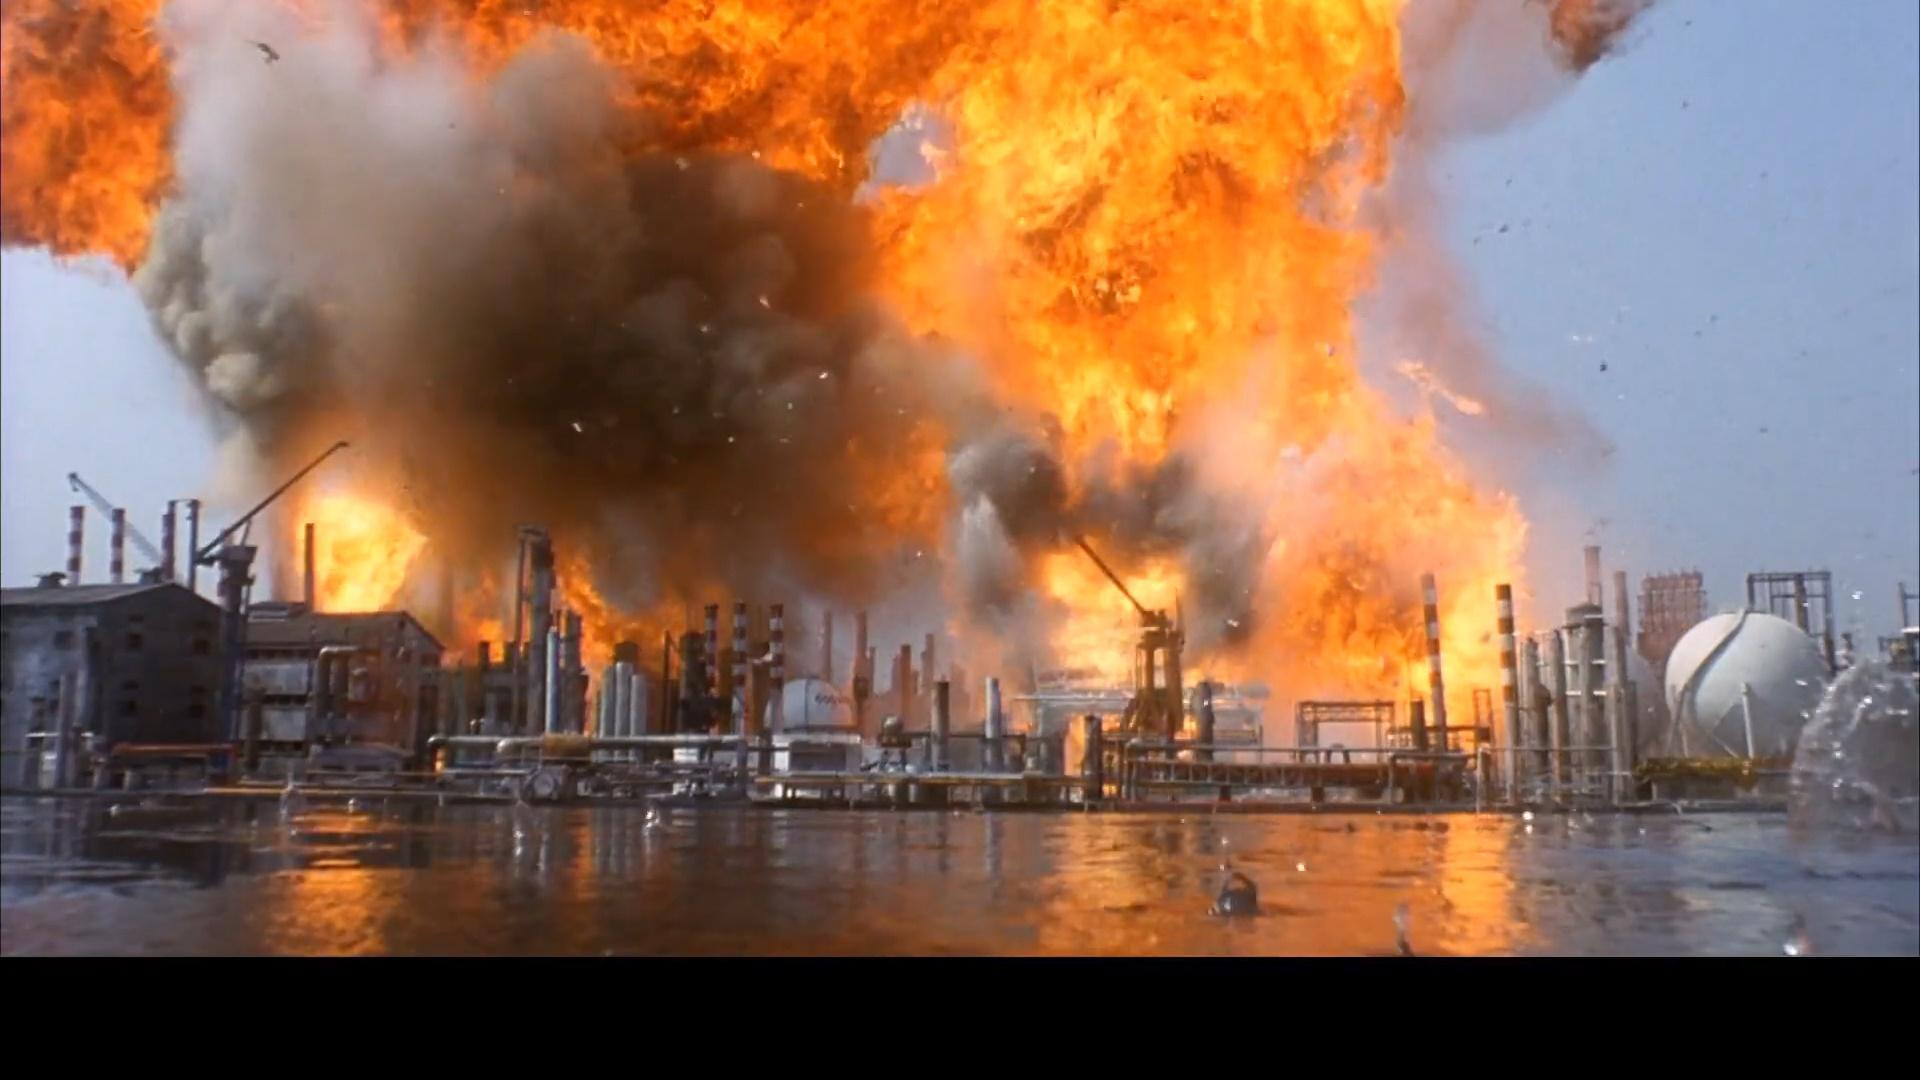fire: (0, 0, 1536, 766)
